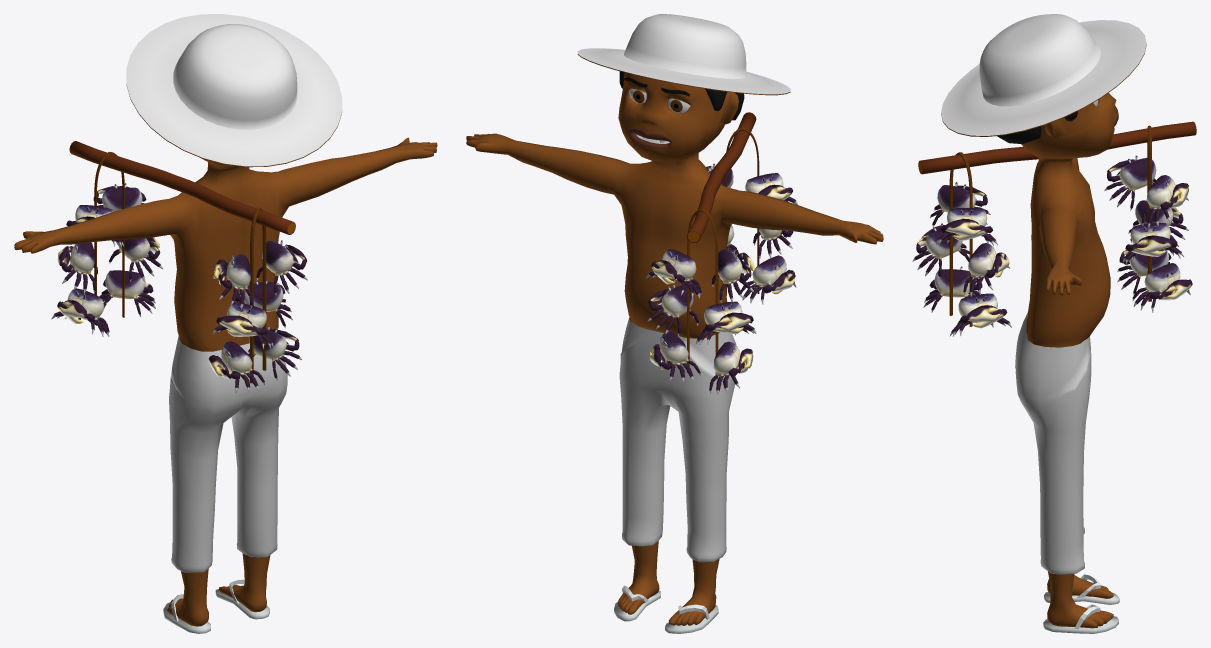
The model's file is figurante.vendedor de caranguejo.0.2.fbx.
The picture shows the model from 3 angles, left to right: view 1: azimuth 30°, elevation 25°; view 2: azimuth 150°, elevation 25°; view 3: azimuth 270°, elevation 25°; orthographic projection.
Visible parts, largest first — view 1: Cilindro.005, Cilindro, Cilindro.002, Cylinder.001, Cylinder.010, Cylinder.007, Cylinder.002, Cylinder.009, Cylinder.012, Cylinder.011, Cylinder.006, Cylinder.014 (+6 smaller); view 2: Cilindro, Cilindro.002, Cilindro.005, Cylinder.001, Cylinder.006, Cylinder.009, Cylinder.004, Cylinder.005, Cylinder.002, Cylinder.003, Cylinder.007, Cilindro.004 (+3 smaller); view 3: Cilindro, Cilindro.005, Cilindro.002, Cylinder.001, Cylinder.002, Cylinder.012, Cylinder.003, Cylinder.014, Cilindro.004, Cylinder.005, Cylinder.004, Cylinder.013 (+8 smaller).
Boxes of the visible parts, x1,y1,x2,y2 form: Cilindro.005: (126,14,342,167); Cilindro: (14,137,437,626); Cilindro.002: (169,335,287,572); Cylinder.001: (69,141,295,234); Cylinder.010: (212,302,273,349); Cylinder.007: (51,288,109,336); Cylinder.002: (99,268,155,316); Cylinder.009: (209,341,264,393); Cylinder.012: (256,240,307,295); Cylinder.011: (213,254,253,308); Cylinder.006: (57,242,97,293); Cylinder.014: (248,325,301,380); Cilindro: (466,72,883,625); Cilindro.002: (619,317,736,562); Cilindro.005: (577,14,790,95); Cylinder.001: (686,112,756,242); Cylinder.006: (695,301,756,344); Cylinder.009: (740,255,796,304); Cylinder.004: (646,249,701,298); Cylinder.005: (711,249,755,303); Cylinder.002: (649,331,700,382); Cylinder.003: (647,283,698,336); Cylinder.007: (709,341,753,394); Cilindro.004: (614,585,718,633); Cilindro: (1021,93,1118,628); Cilindro.005: (941,14,1146,136); Cilindro.002: (1015,312,1091,574); Cylinder.001: (918,121,1196,174); Cylinder.002: (1132,263,1192,312); Cylinder.012: (936,208,997,246); Cylinder.003: (1122,223,1184,264); Cylinder.014: (950,293,1011,336); Cilindro.004: (1043,574,1119,633); Cylinder.005: (1104,155,1156,210); Cylinder.004: (1141,175,1188,227); Cylinder.013: (963,243,1009,296).
Bounding box in the file's own units: 7.71 × 10.31 × 4.5.
